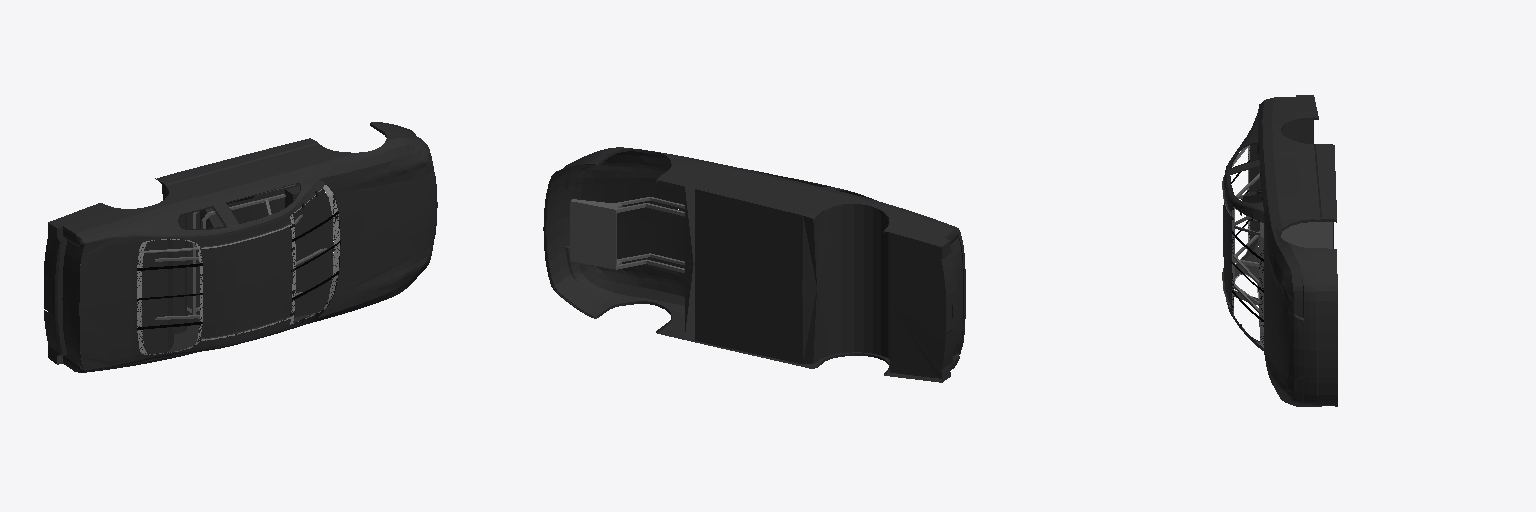
The model's file is interior.obj.
The picture shows the model from 3 angles: view 1: azimuth 30°, elevation 25°; view 2: azimuth 150°, elevation 25°; view 3: azimuth 270°, elevation 25°; orthographic projection.
Visible parts, largest first — view 1: Object13, Object17, Object10, Object07, Object11, 1, Object06, Object16; view 2: Object11, Object13, Object12, Object09; view 3: Object13, Object17, Object09, 1, Object07.
Boxes of the visible parts, <box> form: Object13: <box>44,122,436,372</box>; Object17: <box>63,178,324,372</box>; Object10: <box>142,186,333,352</box>; Object07: <box>137,185,339,354</box>; Object11: <box>48,185,275,356</box>; 1: <box>80,185,326,319</box>; Object06: <box>137,212,339,329</box>; Object16: <box>288,186,333,317</box>; Object11: <box>685,189,946,378</box>; Object13: <box>543,147,965,382</box>; Object12: <box>685,190,945,377</box>; Object09: <box>570,187,694,339</box>; Object13: <box>1258,95,1337,406</box>; Object17: <box>1222,105,1264,350</box>; Object09: <box>1281,222,1332,248</box>; 1: <box>1233,173,1259,312</box>; Object07: <box>1222,144,1263,347</box>.
Size of the model in its own units: 4.82 by 1.84 by 1.24.